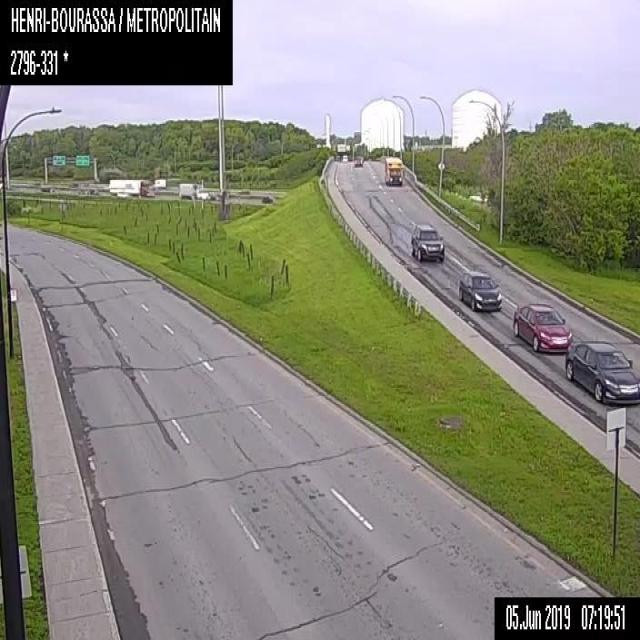vehicle: (565, 341, 639, 405), (512, 303, 572, 354), (458, 270, 501, 310), (410, 222, 445, 262), (108, 176, 152, 196), (178, 180, 209, 199), (383, 155, 402, 185), (152, 177, 166, 187), (353, 152, 363, 166), (261, 194, 273, 201), (341, 153, 347, 161)
